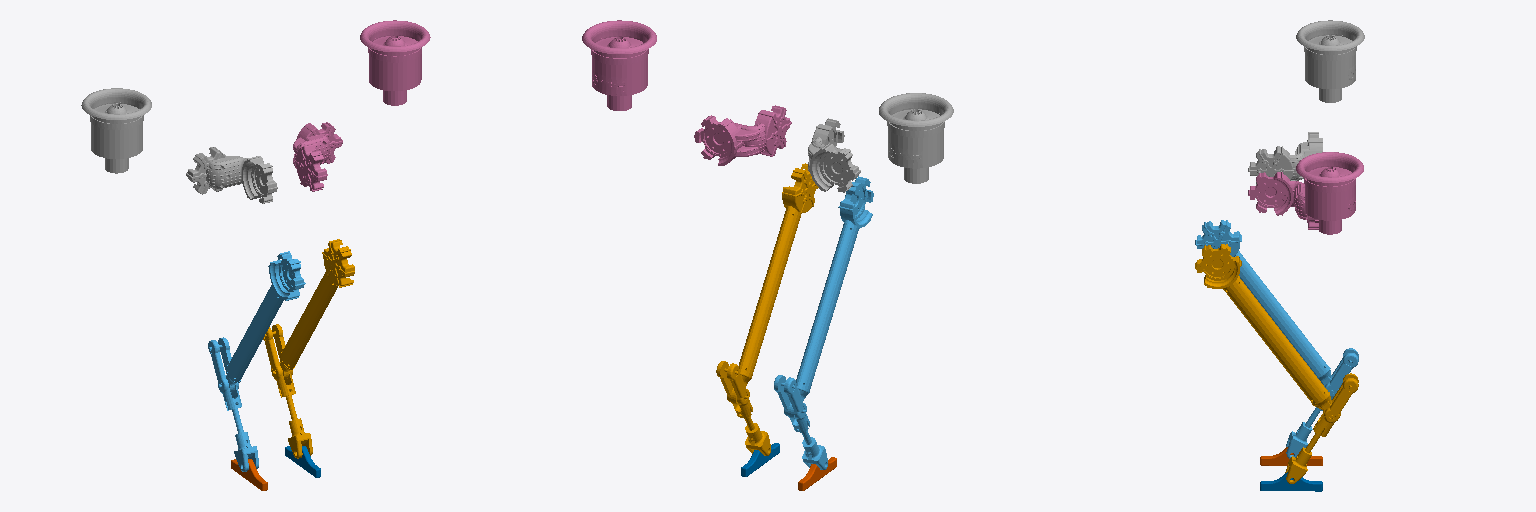
The robot description file, URDF, robot "harpy":
<?xml version="1.0" encoding="UTF-8"?>
<robot name="harpy">
  <joint name="AnkleLeftJoint" type="continuous">
    <origin xyz="0.18387 0.26067 -0.00787" rpy="0.0015924 -0.0000001 0.0015926"/>
    <parent link="KneeLeft"/>
    <child link="AnkleLeft"/>
    <axis xyz="0. 0. 1."/>
  </joint>
  <joint name="AnkleRightJoint" type="continuous">
    <origin xyz="-0.26067 0.18387 0.00787" rpy="-0. -0.0000002 -0. "/>
    <parent link="KneeRight"/>
    <child link="AnkleRight"/>
    <axis xyz="0. 0. 1."/>
  </joint>
  <joint name="Basejoint" type="fixed">
    <origin xyz="0. 0. 0." rpy="0.0000136 -1.57 1.5699865"/>
    <parent link="harpy_model"/>
    <child link="Torso"/>
  </joint>
  <joint name="FSALeftJoint" type="fixed">
    <origin xyz="-0.0300001 0.0519599 0. " rpy="3.1415927 -0.0000001 -3.1415925"/>
    <parent link="AnkleLeft"/>
    <child link="FSALeft"/>
  </joint>
  <joint name="FSARightJoint" type="fixed">
    <origin xyz="0.05196 0.03 0. " rpy="0. 0. 0."/>
    <parent link="AnkleRight"/>
    <child link="FSARight"/>
  </joint>
  <joint name="FootLeftJoint" type="continuous">
    <origin xyz="-0.0650001 0.1125799 0. " rpy="-0. -0.0000001 -3.14 "/>
    <parent link="AnkleLeft"/>
    <child link="FootLeft"/>
    <axis xyz="0. 0. 1."/>
  </joint>
  <joint name="FootRightJoint" type="continuous">
    <origin xyz="-0.11258 -0.065 0. " rpy="0. 0. -1.57"/>
    <parent link="AnkleRight"/>
    <child link="FootRight"/>
    <axis xyz="0. 0. 1."/>
  </joint>
  <joint name="FrontalLeftJoint" type="continuous">
    <origin xyz="-0. -0.1 0.0314" rpy="0. -0. 0."/>
    <parent link="Torso"/>
    <child link="FrontalHipLeft"/>
    <axis xyz="0. 0. 1."/>
  </joint>
  <joint name="FrontalRightJoint" type="continuous">
    <origin xyz="-0. 0.1 0.0314" rpy="3.1415927 0. -3.1415927"/>
    <parent link="Torso"/>
    <child link="FrontalHipRight"/>
    <axis xyz="0. 0. 1."/>
  </joint>
  <joint name="KneeLeftJoint" type="continuous">
    <origin xyz="-0.08531 0.12761 0.05941" rpy="-0.0015925 0.0000001 -0.0015925"/>
    <parent link="SagittalHipLeft"/>
    <child link="KneeLeft"/>
    <axis xyz="0. 0. 1."/>
  </joint>
  <joint name="KneeRightJoint" type="continuous">
    <origin xyz="0.08531 -0.12761 -0.05941" rpy="-0.0015926 0. 1.5715926"/>
    <parent link="SagittalHipRight"/>
    <child link="KneeRight"/>
    <axis xyz="0. 0. 1."/>
  </joint>
  <joint name="SALeftJoint" type="fixed">
    <origin xyz="-0.05195 0.0764 -0.02801" rpy="3.1415925 -0.0000001 -3.1415925"/>
    <parent link="SagittalHipLeft"/>
    <child link="SALeft"/>
  </joint>
  <joint name="SARightJoint" type="fixed">
    <origin xyz="-0.05195 0.077733 -0.02801 " rpy="-3.1415927 0. 3.1415927"/>
    <parent link="SagittalHipRight"/>
    <child link="SARight"/>
  </joint>
  <joint name="SagittalLeftJoint" type="continuous">
    <origin xyz="0. 0. 0.06405" rpy="1.5716062 1.57 -3.1415792"/>
    <parent link="FrontalHipLeft"/>
    <child link="SagittalHipLeft"/>
    <axis xyz="0. 0. 1."/>
  </joint>
  <joint name="SagittalRightJoint" type="continuous">
    <origin xyz="-0. -0. -0.06405" rpy="-1.5699865 1.57 0.0000136"/>
    <parent link="FrontalHipRight"/>
    <child link="SagittalHipRight"/>
    <axis xyz="0. 0. 1."/>
  </joint>
  <joint name="ThrusterLeftJoint" type="continuous">
    <origin xyz="0.101 -0.25 -0. " rpy="0.0000295 1.57 0.0000295"/>
    <parent link="Torso"/>
    <child link="ThrusterLeft"/>
    <axis xyz="0. 1. 0."/>
  </joint>
  <joint name="ThrusterRightJoint" type="continuous">
    <origin xyz="0.101 0.25 0. " rpy="0.0000295 1.57 0.0000295"/>
    <parent link="Torso"/>
    <child link="ThrusterRight"/>
    <axis xyz="0. 1. 0."/>
  </joint>
  <link name="AnkleLeft">
    <inertial>
      <origin xyz="0.0126573 0.0219308 0.0000259" rpy="0. 0. 0."/>
      <mass value="0.0785781"/>
      <inertia ixx="0.0002564" ixy="0.000143" ixz="-0.0000001" iyy="0.0000912" iyz="-0.0000001" izz="0.0003356"/>
    </inertial>
    <visual>
      <origin xyz="-0.0000001 -0. 0. " rpy="3.1415927 -0.0000001 -3.1415925"/>
      <geometry>
        <mesh filename="meshes/AnkleLeft_visuals.obj" scale="1. 1. 1."/>
      </geometry>
    </visual>
    <collision>
      <origin xyz="-0.0000001 -0. 0. " rpy="3.1415927 -0.0000001 -3.1415925"/>
      <geometry>
        <mesh filename="meshes/AnkleLeft_collisions.obj" scale="1. 1. 1."/>
      </geometry>
    </collision>
  </link>
  <link name="AnkleRight">
    <inertial>
      <origin xyz="-0.0219308 -0.0126573 -0.0000259" rpy="0. 0. 0."/>
      <mass value="0.0785781"/>
      <inertia ixx="0.0000912" ixy="0.000143" ixz="-0.0000001" iyy="0.0002564" iyz="-0.0000001" izz="0.0003356"/>
    </inertial>
    <visual>
      <origin xyz="0. -0. 0." rpy="0. 0. 0."/>
      <geometry>
        <mesh filename="meshes/AnkleRight_visuals.obj" scale="1. 1. 1."/>
      </geometry>
    </visual>
    <collision>
      <origin xyz="0. -0. 0." rpy="0. 0. 0."/>
      <geometry>
        <mesh filename="meshes/AnkleRight_collisions.obj" scale="1. 1. 1."/>
      </geometry>
    </collision>
  </link>
  <link name="FSALeft">
    <inertial>
      <origin xyz="-inf -inf -inf" rpy="0. 0. 0."/>
      <mass value="0.000001"/>
      <inertia ixx="0.00001" ixy="0." ixz="0." iyy="0.00001" iyz="0." izz="0.00001"/>
    </inertial>
  </link>
  <link name="FSARight">
    <inertial>
      <origin xyz="-inf -inf -inf" rpy="0. 0. 0."/>
      <mass value="0.000001"/>
      <inertia ixx="0.00001" ixy="0." ixz="0." iyy="0.00001" iyz="0." izz="0.00001"/>
    </inertial>
  </link>
  <link name="FootLeft">
    <inertial>
      <origin xyz="0. -0.0142896 0. " rpy="0. 0. 0."/>
      <mass value="0.0238764"/>
      <inertia ixx="0.0000016" ixy="0." ixz="0." iyy="0.0000156" iyz="0." izz="0.0000168"/>
    </inertial>
    <visual>
      <origin xyz="0. -0. -0." rpy="-3.1415927 -0.0000001 3.1415925"/>
      <geometry>
        <mesh filename="meshes/FootLeft_visuals.obj" scale="1. 1. 1."/>
      </geometry>
    </visual>
    <collision>
      <origin xyz="0. -0. -0." rpy="-3.1415927 -0.0000001 3.1415925"/>
      <geometry>
        <mesh filename="meshes/FootLeft_collisions.obj" scale="1. 1. 1."/>
      </geometry>
    </collision>
  </link>
  <link name="FootRight">
    <inertial>
      <origin xyz="0. -0.0142896 0. " rpy="0. 0. 0."/>
      <mass value="0.0238764"/>
      <inertia ixx="0.0000016" ixy="0." ixz="0." iyy="0.0000156" iyz="0." izz="0.0000168"/>
    </inertial>
    <visual>
      <origin xyz="-0. -0. 0." rpy="-0.0000001 -0. -0.0000001"/>
      <geometry>
        <mesh filename="meshes/FootRight_visuals.obj" scale="1. 1. 1."/>
      </geometry>
    </visual>
    <collision>
      <origin xyz="-0. -0. 0." rpy="-0.0000001 -0. -0.0000001"/>
      <geometry>
        <mesh filename="meshes/FootRight_collisions.obj" scale="1. 1. 1."/>
      </geometry>
    </collision>
  </link>
  <link name="FrontalHipLeft">
    <inertial>
      <origin xyz="0. 0.03048 0.02167" rpy="0. 0. 0."/>
      <mass value="0.16423"/>
      <inertia ixx="0.0002217" ixy="-0." ixz="-0." iyy="0.0001626" iyz="0.000076" izz="0.0001435"/>
    </inertial>
    <visual>
      <origin xyz="0. 0. 0." rpy="0. 0. 0."/>
      <geometry>
        <mesh filename="meshes/FrontalHipLeft_visuals.obj" scale="1. 1. 1."/>
      </geometry>
    </visual>
    <collision>
      <origin xyz="0. 0. 0." rpy="0. 0. 0."/>
      <geometry>
        <mesh filename="meshes/FrontalHipLeft_collisions.obj" scale="1. 1. 1."/>
      </geometry>
    </collision>
  </link>
  <link name="FrontalHipRight">
    <inertial>
      <origin xyz="0. -0.03048 0.02167" rpy="0. 0. 0."/>
      <mass value="0.16423"/>
      <inertia ixx="0.0002217" ixy="-0." ixz="-0." iyy="0.0001626" iyz="-0.000076" izz="0.0001435"/>
    </inertial>
    <visual>
      <origin xyz="-0. -0. -0." rpy="3.1415927 0. 3.1415927"/>
      <geometry>
        <mesh filename="meshes/FrontalHipRight_visuals.obj" scale="1. 1. 1."/>
      </geometry>
    </visual>
    <collision>
      <origin xyz="-0. -0. -0." rpy="3.1415927 0. 3.1415927"/>
      <geometry>
        <mesh filename="meshes/FrontalHipRight_collisions.obj" scale="1. 1. 1."/>
      </geometry>
    </collision>
  </link>
  <link name="KneeLeft">
    <inertial>
      <origin xyz="0.06879 0.097517 -0.006394" rpy="0. 0. 0."/>
      <mass value="0.1304694"/>
      <inertia ixx="0.000791" ixy="-0.0008416" ixz="-0.0000212" iyy="0.0009584" iyz="-0.0000192" izz="0.0017379"/>
    </inertial>
    <visual>
      <origin xyz="-0. -0. -0." rpy="-0.0000001 -0.0000001 0. "/>
      <geometry>
        <mesh filename="meshes/KneeLeft_visuals.obj" scale="1. 1. 1."/>
      </geometry>
    </visual>
    <collision>
      <origin xyz="-0. -0. -0." rpy="-0.0000001 -0.0000001 0. "/>
      <geometry>
        <mesh filename="meshes/KneeLeft_collisions.obj" scale="1. 1. 1."/>
      </geometry>
    </collision>
  </link>
  <link name="KneeRight">
    <inertial>
      <origin xyz="-0.097517 0.06879 0.006394" rpy="0. 0. 0."/>
      <mass value="0.1304694"/>
      <inertia ixx="0.000791" ixy="-0.0008416" ixz="-0.0000212" iyy="0.0009584" iyz="-0.0000192" izz="0.0017379"/>
    </inertial>
    <visual>
      <origin xyz="0. 0. 0." rpy="-0. -0.0000002 -0. "/>
      <geometry>
        <mesh filename="meshes/KneeRight_visuals.obj" scale="1. 1. 1."/>
      </geometry>
    </visual>
    <collision>
      <origin xyz="0. 0. 0." rpy="-0. -0.0000002 -0. "/>
      <geometry>
        <mesh filename="meshes/KneeRight_collisions.obj" scale="1. 1. 1."/>
      </geometry>
    </collision>
  </link>
  <link name="SALeft">
    <inertial>
      <origin xyz="-inf -inf -inf" rpy="0. 0. 0."/>
      <mass value="0.000001"/>
      <inertia ixx="0.00001" ixy="0." ixz="0." iyy="0.00001" iyz="0." izz="0.00001"/>
    </inertial>
  </link>
  <link name="SARight">
    <inertial>
      <origin xyz="-inf -inf -inf" rpy="0. 0. 0."/>
      <mass value="0.000001"/>
      <inertia ixx="0.00001" ixy="0." ixz="0." iyy="0.00001" iyz="0." izz="0.00001"/>
    </inertial>
  </link>
  <link name="SagittalHipLeft">
    <inertial>
      <origin xyz="0.0458652 0.0650204 -0.0234373" rpy="0. 0. 0."/>
      <mass value="0.6260416"/>
      <inertia ixx="0.002691" ixy="0.0015675" ixz="-0.0000053" iyy="0.0015701" iyz="-0.0000075" izz="0.0035944"/>
    </inertial>
    <visual>
      <origin xyz="0. 0. 0." rpy="3.1415925 -0.0000001 -3.1415925"/>
      <geometry>
        <mesh filename="meshes/SagittalHipLeft_visuals.obj" scale="1. 1. 1."/>
      </geometry>
    </visual>
    <collision>
      <origin xyz="0. 0. 0." rpy="3.1415925 -0.0000001 -3.1415925"/>
      <geometry>
        <mesh filename="meshes/SagittalHipLeft_collisions.obj" scale="1. 1. 1."/>
      </geometry>
    </collision>
  </link>
  <link name="SagittalHipRight">
    <inertial>
      <origin xyz="-0.044219 -0.066151 0.0234373" rpy="0. 0. 0."/>
      <mass value="0.6260416"/>
      <inertia ixx="0.002765" ixy="0.001539" ixz="-0.0000051" iyy="0.001496" iyz="-0.0000077" izz="0.0035944"/>
    </inertial>
    <visual>
      <origin xyz="-0. -0. 0." rpy="-3.1415927 0. 3.1415927"/>
      <geometry>
        <mesh filename="meshes/SagittalHipRight_visuals.obj" scale="1. 1. 1."/>
      </geometry>
    </visual>
    <collision>
      <origin xyz="-0. -0. 0." rpy="-3.1415927 0. 3.1415927"/>
      <geometry>
        <mesh filename="meshes/SagittalHipRight_collisions.obj" scale="1. 1. 1."/>
      </geometry>
    </collision>
  </link>
  <link name="ThrusterLeft">
    <inertial>
      <origin xyz="0. 0. -0.0096491" rpy="0. 0. 0."/>
      <mass value="0.12"/>
      <inertia ixx="0.0001104" ixy="0." ixz="0." iyy="0.0001104" iyz="0." izz="0.000092"/>
    </inertial>
    <visual>
      <origin xyz="0. 0. -0." rpy="0. 0. 0.0000002"/>
      <geometry>
        <mesh filename="meshes/ThrusterLeft_visuals.obj" scale="1. 1. 1."/>
      </geometry>
    </visual>
    <collision>
      <origin xyz="0. 0. -0." rpy="0. 0. 0.0000002"/>
      <geometry>
        <mesh filename="meshes/ThrusterLeft_collisions.obj" scale="1. 1. 1."/>
      </geometry>
    </collision>
  </link>
  <link name="ThrusterRight">
    <inertial>
      <origin xyz="0. 0. -0.0096491" rpy="0. 0. 0."/>
      <mass value="0.12"/>
      <inertia ixx="0.0001104" ixy="0." ixz="0." iyy="0.0001104" iyz="0." izz="0.000092"/>
    </inertial>
    <visual>
      <origin xyz="-0. -0. -0." rpy="0. 0. 0.0000002"/>
      <geometry>
        <mesh filename="meshes/ThrusterRight_visuals.obj" scale="1. 1. 1."/>
      </geometry>
    </visual>
    <collision>
      <origin xyz="-0. -0. -0." rpy="0. 0. 0.0000002"/>
      <geometry>
        <mesh filename="meshes/ThrusterRight_collisions.obj" scale="1. 1. 1."/>
      </geometry>
    </collision>
  </link>
  <link name="Torso">
    <inertial>
      <origin xyz="0.0808192 0.0003988 -0.0170212" rpy="0. 0. 0."/>
      <mass value="3.2677"/>
      <inertia ixx="0.0503117" ixy="0.0004851" ixz="-0.0000162" iyy="0.0206829" iyz="-0.0000604" izz="0.0561961"/>
    </inertial>
    <visual>
      <origin xyz="0. 0. 0." rpy="0. -0. 0."/>
      <geometry>
        <mesh filename="meshes/Torso_visuals.obj" scale="1. 1. 1."/>
      </geometry>
    </visual>
    <collision>
      <origin xyz="0. 0. 0." rpy="0. -0. 0."/>
      <geometry>
        <mesh filename="meshes/Torso_collisions.obj" scale="1. 1. 1."/>
      </geometry>
    </collision>
  </link>
  <link name="harpy_model"/>
</robot>

--- What the picture shows (computed from the rendered views, not written in the file) ---
The picture shows the robot from 3 angles, left to right: view 1: azimuth 30°, elevation 25°; view 2: azimuth 150°, elevation 25°; view 3: azimuth 270°, elevation 25°; orthographic projection.
Model harpy with 18 links and 17 joints (12 continuous, 5 fixed), rooted at harpy_model, posed all joints at 0.
Links seen in each view (by area): view 1: ThrusterLeft, ThrusterRight, KneeRight, FrontalHipRight, KneeLeft, FrontalHipLeft, AnkleRight, AnkleLeft; view 2: ThrusterRight, ThrusterLeft, KneeRight, KneeLeft, FrontalHipLeft, FrontalHipRight, AnkleRight, AnkleLeft; view 3: KneeLeft, ThrusterRight, ThrusterLeft, KneeRight, FrontalHipLeft, AnkleLeft, FrontalHipRight, AnkleRight, FootLeft.
Boxes of the visible links, x1=… form: ThrusterLeft: x1=360, y1=20, x2=430, y2=105; ThrusterRight: x1=81, y1=88, x2=151, y2=173; KneeRight: x1=226, y1=251, x2=305, y2=392; FrontalHipRight: x1=186, y1=147, x2=277, y2=203; KneeLeft: x1=279, y1=239, x2=354, y2=378; FrontalHipLeft: x1=293, y1=122, x2=342, y2=191; AnkleRight: x1=208, y1=337, x2=258, y2=471; AnkleLeft: x1=263, y1=324, x2=312, y2=458; ThrusterRight: x1=879, y1=93, x2=953, y2=183; ThrusterLeft: x1=582, y1=20, x2=656, y2=110; KneeRight: x1=788, y1=176, x2=873, y2=419; KneeLeft: x1=731, y1=163, x2=818, y2=404; FrontalHipLeft: x1=694, y1=105, x2=791, y2=165; FrontalHipRight: x1=808, y1=118, x2=860, y2=192; AnkleRight: x1=774, y1=375, x2=827, y2=469; AnkleLeft: x1=716, y1=361, x2=770, y2=455; KneeLeft: x1=1195, y1=244, x2=1340, y2=415; ThrusterRight: x1=1296, y1=20, x2=1364, y2=102; ThrusterLeft: x1=1296, y1=152, x2=1363, y2=234; KneeRight: x1=1195, y1=220, x2=1331, y2=386; FrontalHipLeft: x1=1248, y1=172, x2=1318, y2=229; AnkleLeft: x1=1285, y1=373, x2=1358, y2=483; FrontalHipRight: x1=1248, y1=132, x2=1322, y2=184; AnkleRight: x1=1286, y1=348, x2=1358, y2=458; FootLeft: x1=1260, y1=472, x2=1322, y2=491.
Size in the robot's own frame: 0.61 by 0.2722 by 0.6714 metres.
10 mesh visuals loaded from 13 distinct referenced files (10 OBJ); not drawn: 3 (reference not matched to a file when rendering).
